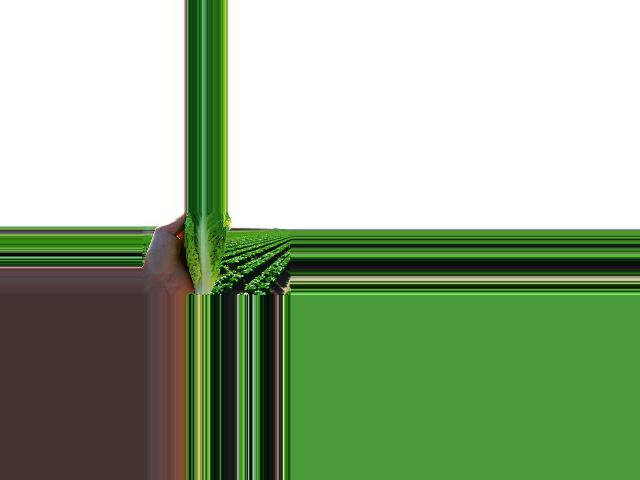lettuce: (184, 214, 228, 296)
